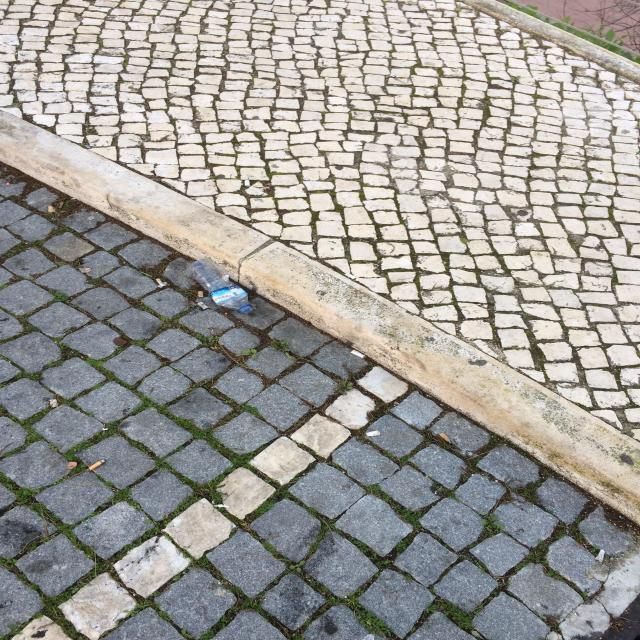Cigarette: (88, 460, 105, 471), (350, 349, 366, 358), (439, 433, 450, 443), (366, 431, 380, 437), (156, 278, 164, 287), (197, 292, 203, 297)
Clear plastic bottle: (188, 259, 254, 314)
